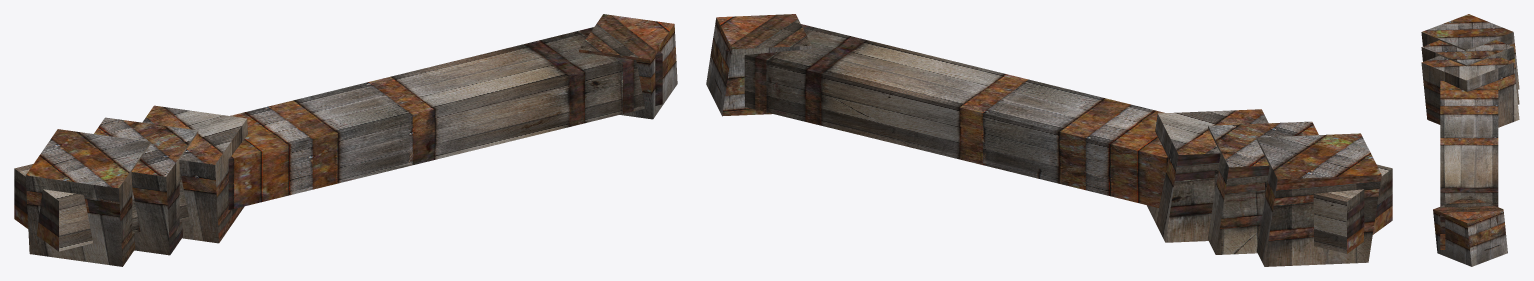
Rendered from arrow.fbx.
The picture shows the model from 3 angles, left to right: view 1: azimuth 30°, elevation 25°; view 2: azimuth 150°, elevation 25°; view 3: azimuth 270°, elevation 25°; orthographic projection. The views are drawn at different scales.
Parts seen in each view (by area): view 1: polySurface4; view 2: polySurface4; view 3: polySurface4.
Boxes of the visible parts, x1,y1,x2,y2 form: polySurface4: (14, 14, 677, 266); polySurface4: (706, 14, 1392, 266); polySurface4: (1421, 14, 1519, 266).
Size of the model in its own units: 11.7 by 1.52 by 2.34.
Materials: 1 (1 with a texture image).
